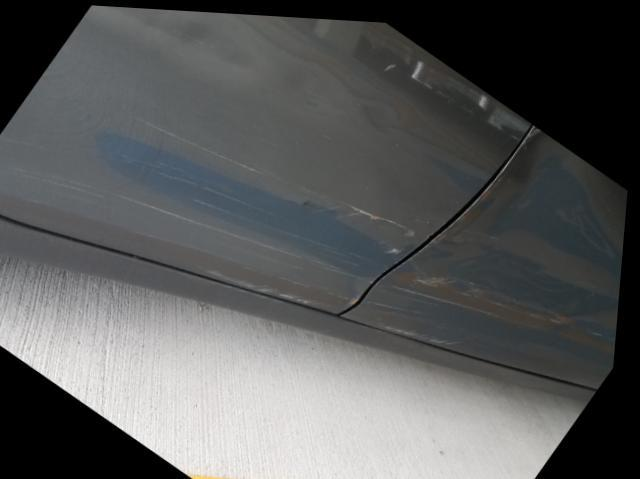dent: (417, 123, 630, 319), (87, 4, 403, 132)
scratch: (0, 102, 422, 310), (371, 275, 496, 344)
